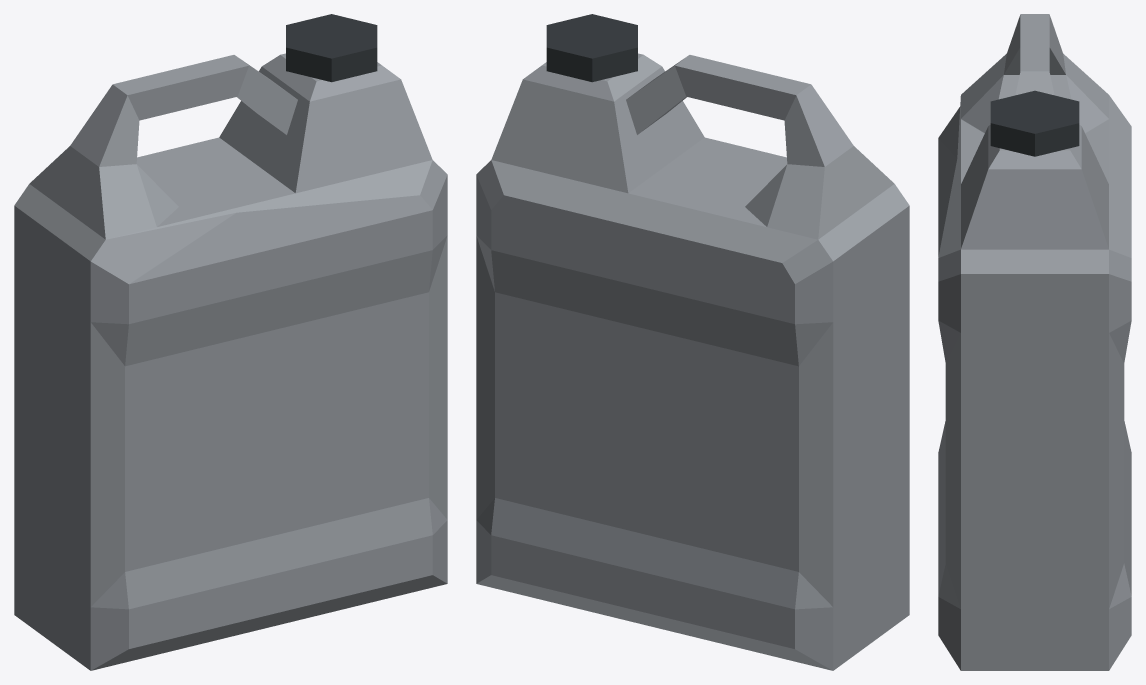
Rendered from SM_Prop_Container_02.fbx.
3 renders of one model, left to right at view 1: azimuth 30°, elevation 25°; view 2: azimuth 150°, elevation 25°; view 3: azimuth 270°, elevation 25°, orthographic. The views are drawn at different scales.
Parts seen in each view (by area): view 1: SM_Prop_Container_02; view 2: SM_Prop_Container_02; view 3: SM_Prop_Container_02.
Boxes of the visible parts, x1,y1,x2,y2 form: SM_Prop_Container_02: (14, 14, 447, 670); SM_Prop_Container_02: (476, 14, 909, 670); SM_Prop_Container_02: (938, 14, 1131, 670).
Size of the model in its own units: 27.5 by 39.65 by 13.31.
1 material, 1 textured.
